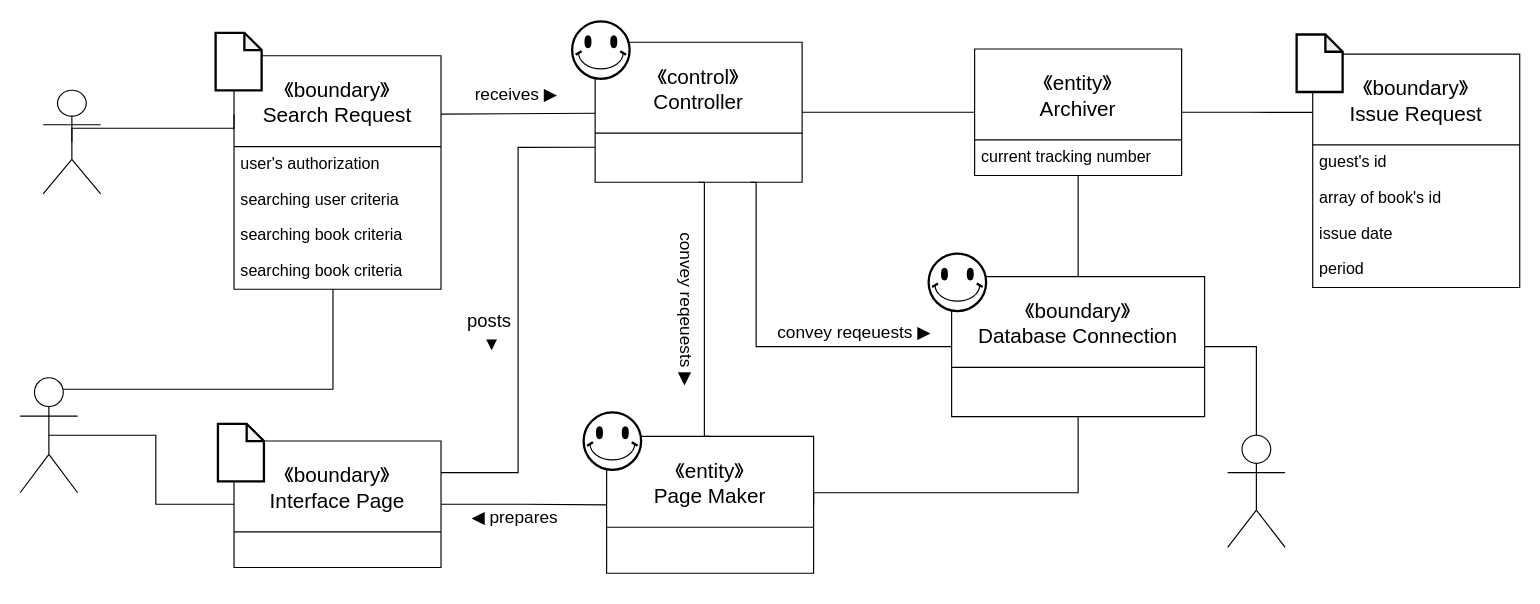
The diagram is 1540 pixels wide and 604 high, and some of its shapes have lost their labels. The centre of each missing label's shape, as x and y in pixels:
Database: (x=1255, y=490)
Guest: (x=71, y=141)
Manager: (x=48, y=435)
